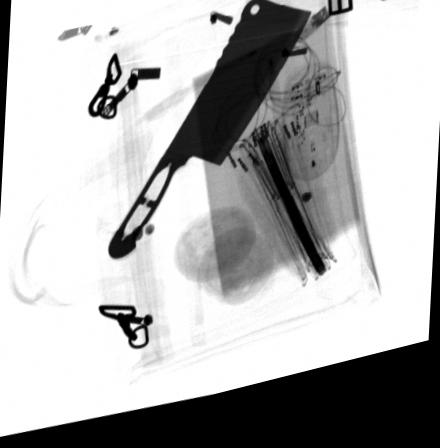Knife: (107, 8, 313, 266)
